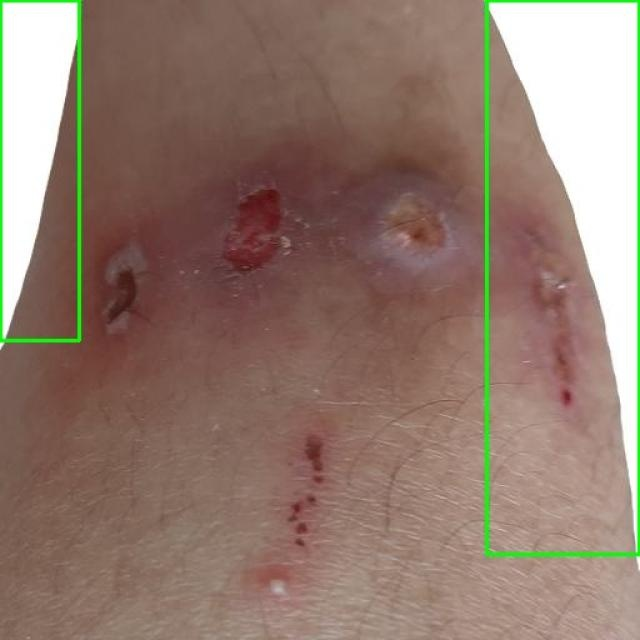Contact Dermatitis: (486, 0, 639, 554), (0, 0, 79, 340)
